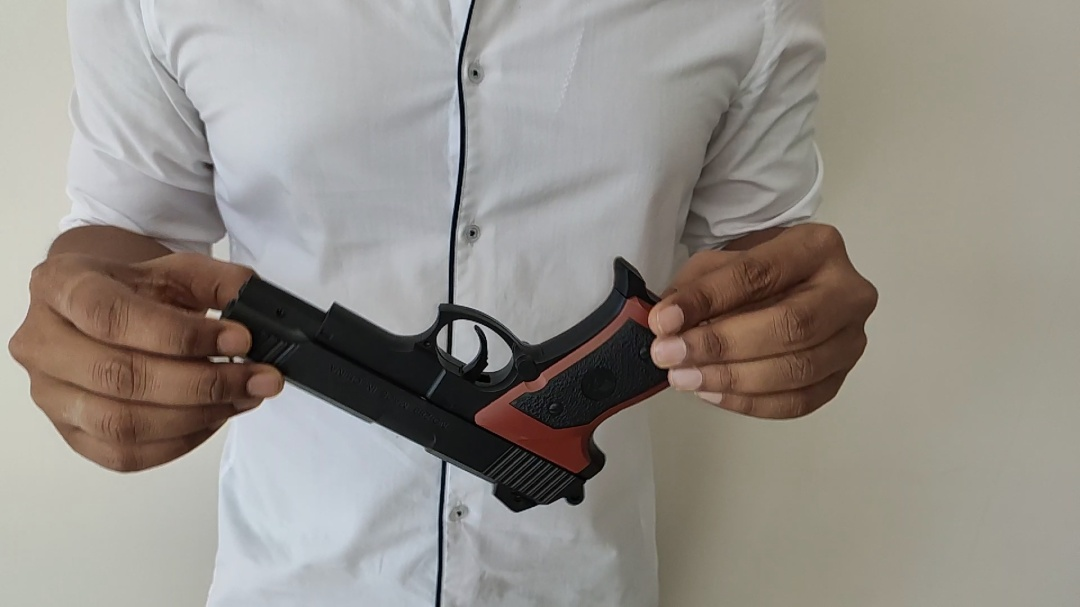gun: (243, 258, 672, 512)
